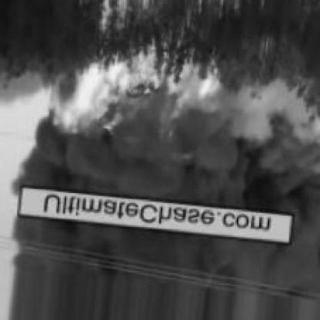Smoke: (19, 143, 309, 313), (228, 90, 308, 131)
